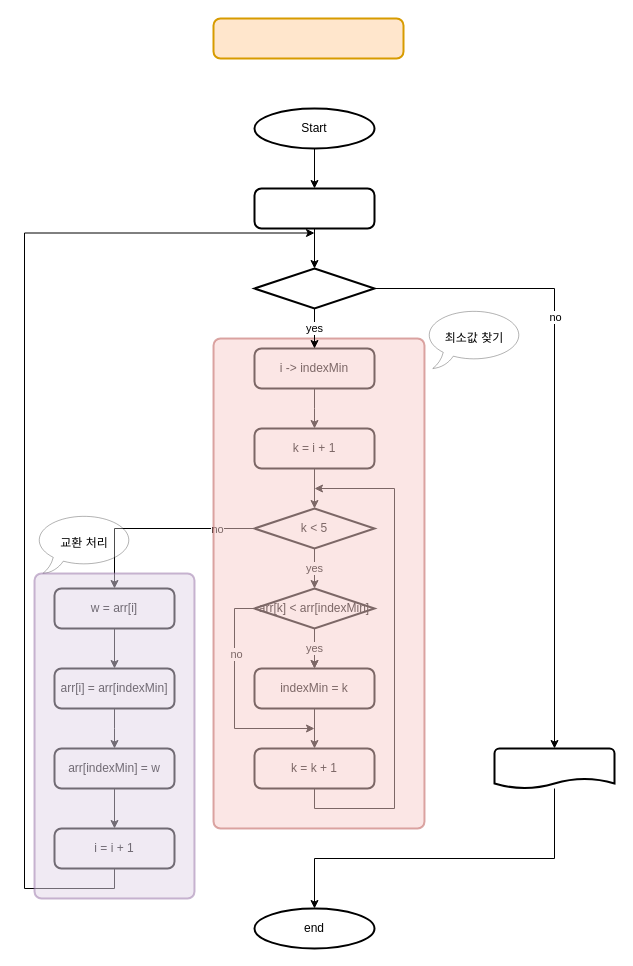
This 633x966 diagram has some shape labels left out. Here are the shapes that lost their labels. From the top down, the centre of each, then its label:
the point at 308,38: 정렬 - 단순 선택법 최종
the point at 314,208: i = 0
the point at 314,288: i < 4
the point at 554,768: arr
